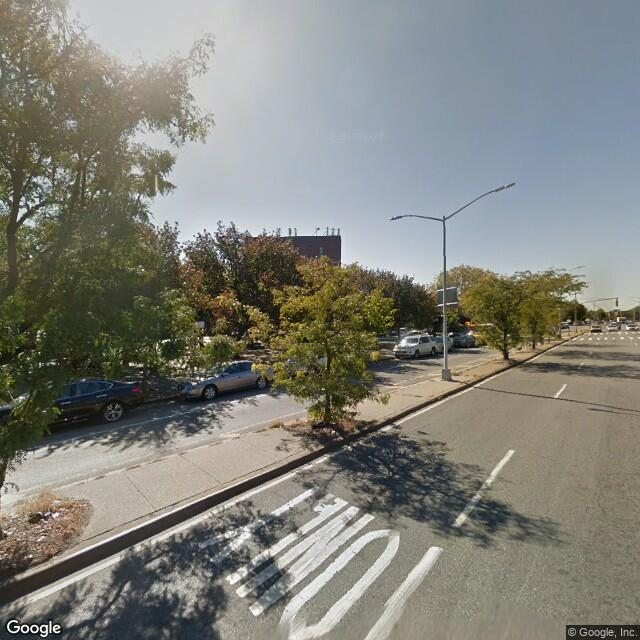litter: (40, 508, 64, 521), (30, 534, 48, 545)
